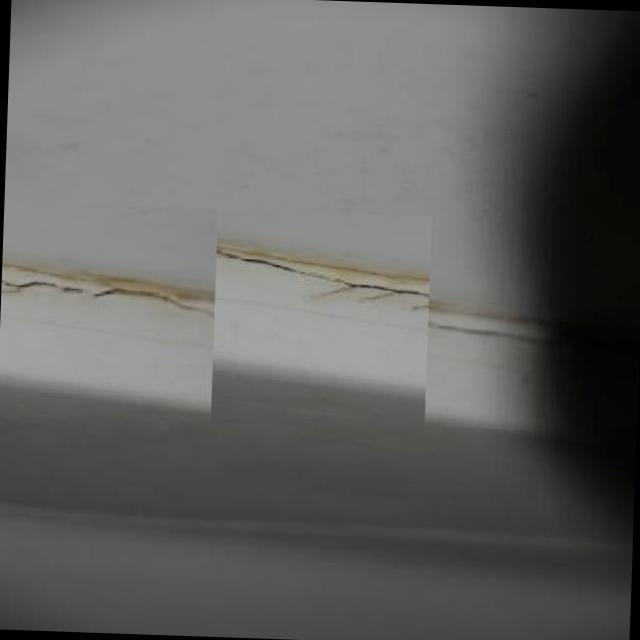crack: (288, 268, 429, 298), (97, 288, 215, 314), (434, 321, 541, 348), (0, 277, 90, 296), (217, 250, 280, 268)
